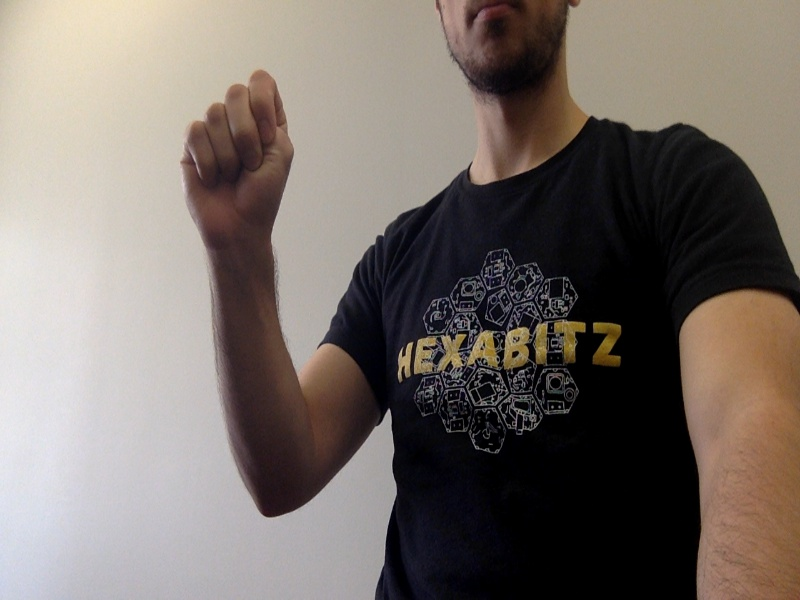0-hand: (182, 70, 294, 246)
